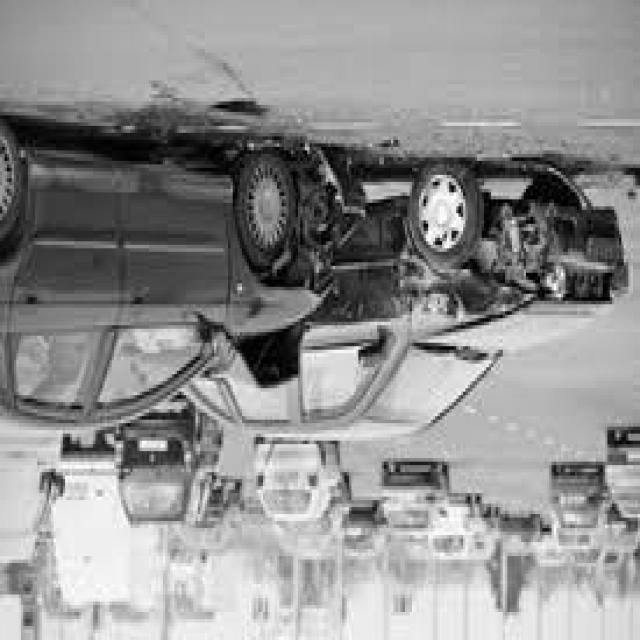moderate: (0, 147, 631, 476)
